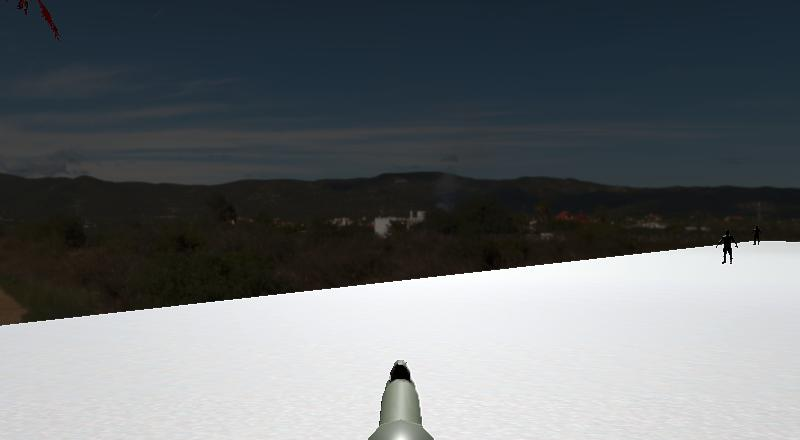Human: (0, 0, 67, 109), (713, 224, 743, 270)
